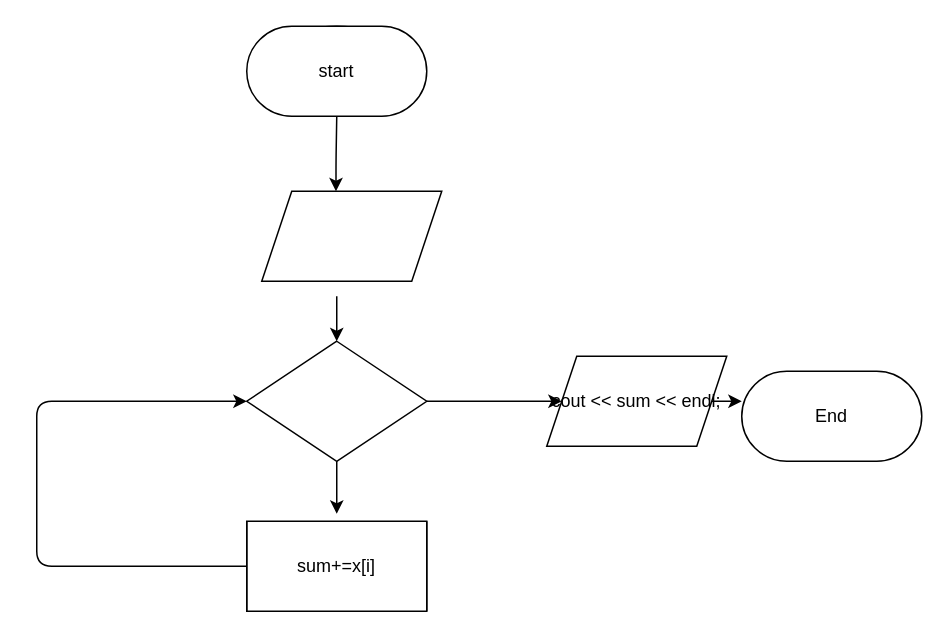
The diagram is 948 pixels wide and 638 high, and some of its shapes have lost their labels. Here are the shapes that lost their labels. From the top down, the centre of each, then its label:
point 351,235: x[4]
point 336,400: for i=0;=>4;i++
